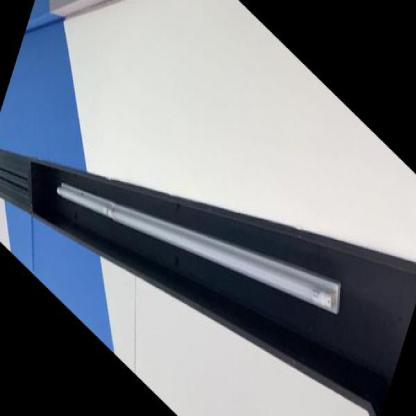light_off: (46, 13, 360, 414)
